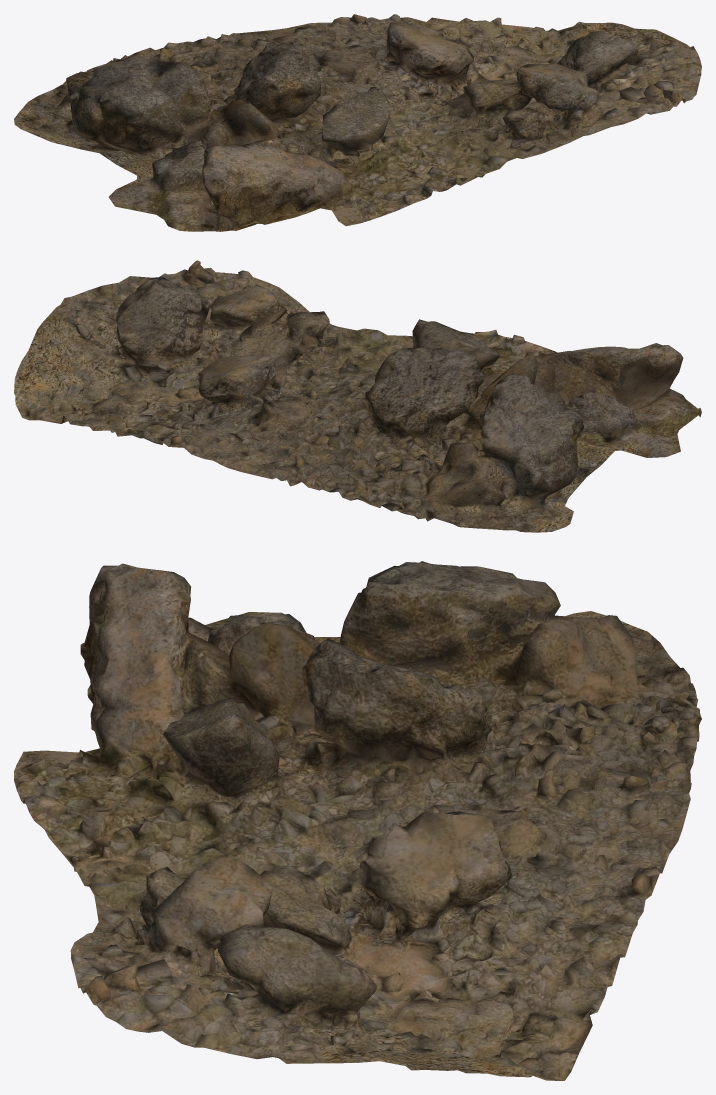
The model's file is coast_land_rocks_03.glb.
3 views of the same model, one above another, from view 1: azimuth 30°, elevation 25°; view 2: azimuth 150°, elevation 25°; view 3: azimuth 270°, elevation 25° (orthographic). The views are drawn at different scales.
Visible parts, largest first — view 1: coast_land_rocks_03; view 2: coast_land_rocks_03; view 3: coast_land_rocks_03.
Boxes of the visible parts, box(x1,y1,x2,y2) form: coast_land_rocks_03: box(14, 14, 701, 231); coast_land_rocks_03: box(14, 260, 701, 532); coast_land_rocks_03: box(14, 561, 701, 1080).
Bounding box in the file's own units: 8.97 × 1.52 × 5.62.
1 material, 1 textured.
